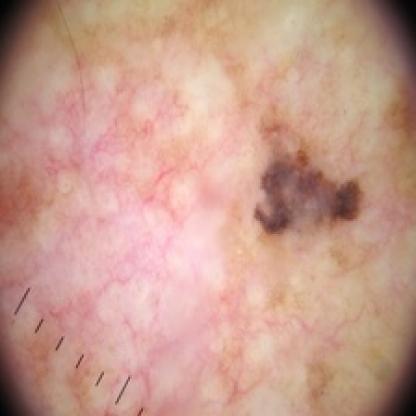Skin_Cancer-Malignant: (247, 148, 365, 236)
